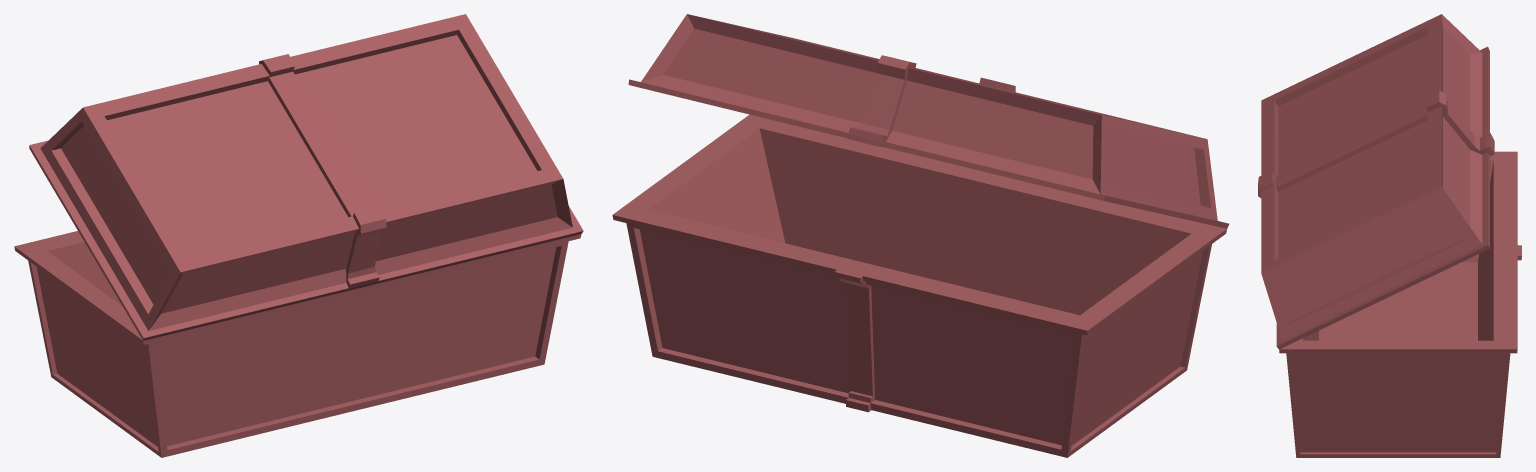
The model's file is Chest_open.fbx.
3 renders of one model, left to right at view 1: azimuth 30°, elevation 25°; view 2: azimuth 150°, elevation 25°; view 3: azimuth 270°, elevation 25°, orthographic. The views are drawn at different scales.
Visible parts, largest first — view 1: Chest_stone_open; view 2: Chest_stone_open; view 3: Chest_stone_open.
Boxes of the visible parts, x1=… form: Chest_stone_open: x1=14, y1=14, x2=583, y2=457; Chest_stone_open: x1=612, y1=14, x2=1229, y2=457; Chest_stone_open: x1=1258, y1=14, x2=1521, y2=457.
Size of the model in its own units: 88.28 by 57.14 by 49.58.
